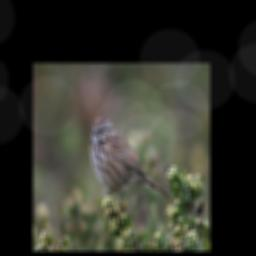Sparrow: (86, 115, 173, 214)
